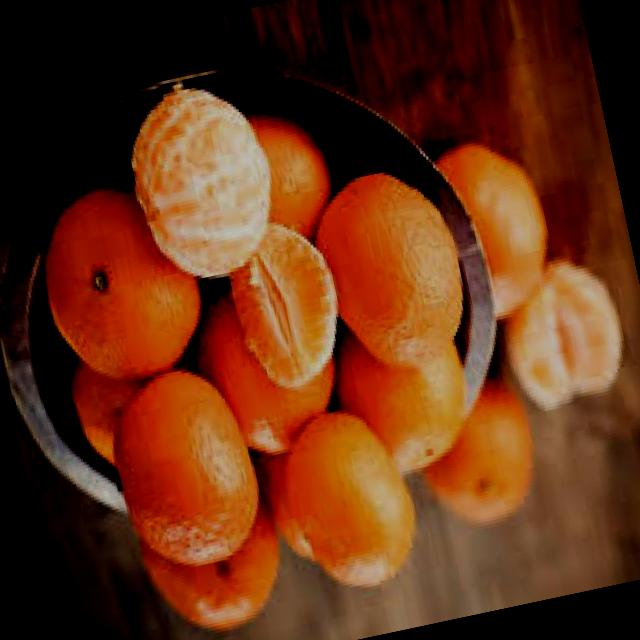Orange: (26, 172, 218, 397), (303, 160, 481, 386), (100, 359, 274, 581), (115, 77, 286, 287), (183, 273, 352, 470), (270, 398, 431, 602), (324, 305, 485, 488), (432, 130, 566, 330), (219, 214, 353, 396), (492, 256, 638, 416), (408, 372, 549, 535), (136, 499, 296, 640), (242, 104, 342, 254), (64, 346, 159, 474)
